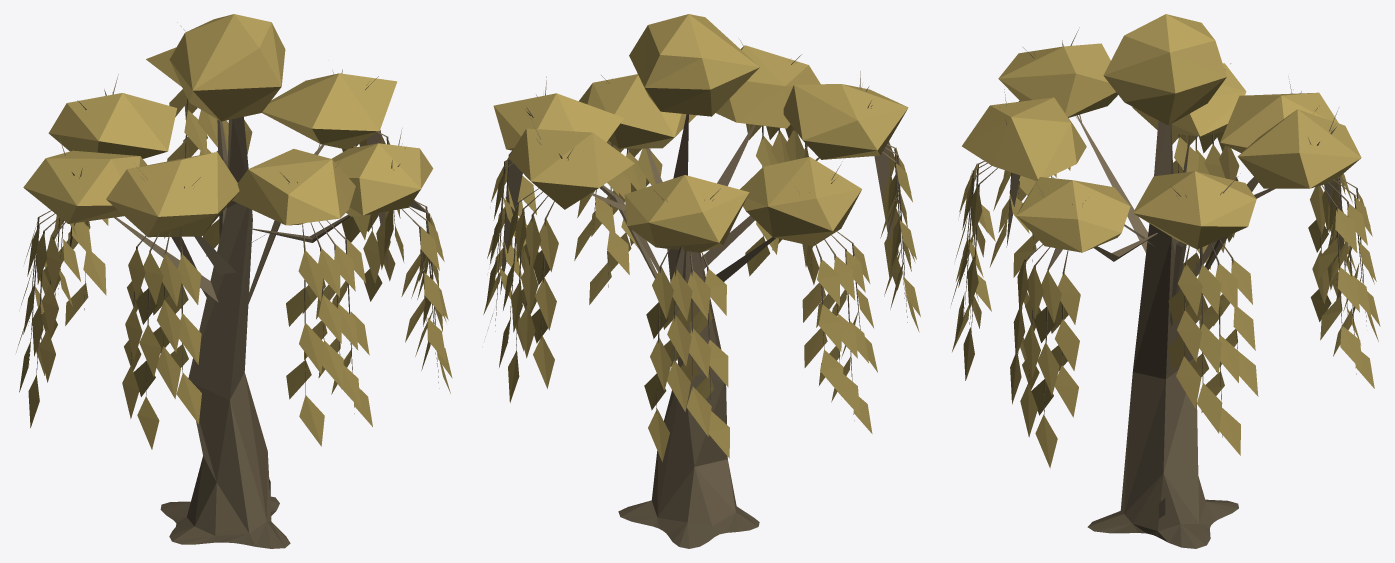
The model's file is willow_autumn.glb.
The picture shows the model from 3 angles, left to right: view 1: azimuth 30°, elevation 25°; view 2: azimuth 150°, elevation 25°; view 3: azimuth 270°, elevation 25°; orthographic projection.
Visible parts, largest first — view 1: leaves, branches; view 2: leaves, branches; view 3: leaves, branches.
Part boxes in pixels (left/top/right/bottom): leaves: left=16, top=14, right=452, bottom=449; branches: left=28, top=22, right=439, bottom=548; leaves: left=483, top=14, right=920, bottom=461; branches: left=495, top=39, right=907, bottom=548; leaves: left=951, top=14, right=1380, bottom=468; branches: left=963, top=27, right=1366, bottom=548.
Size of the model in its own units: 3.6 by 4.6 by 3.54.
